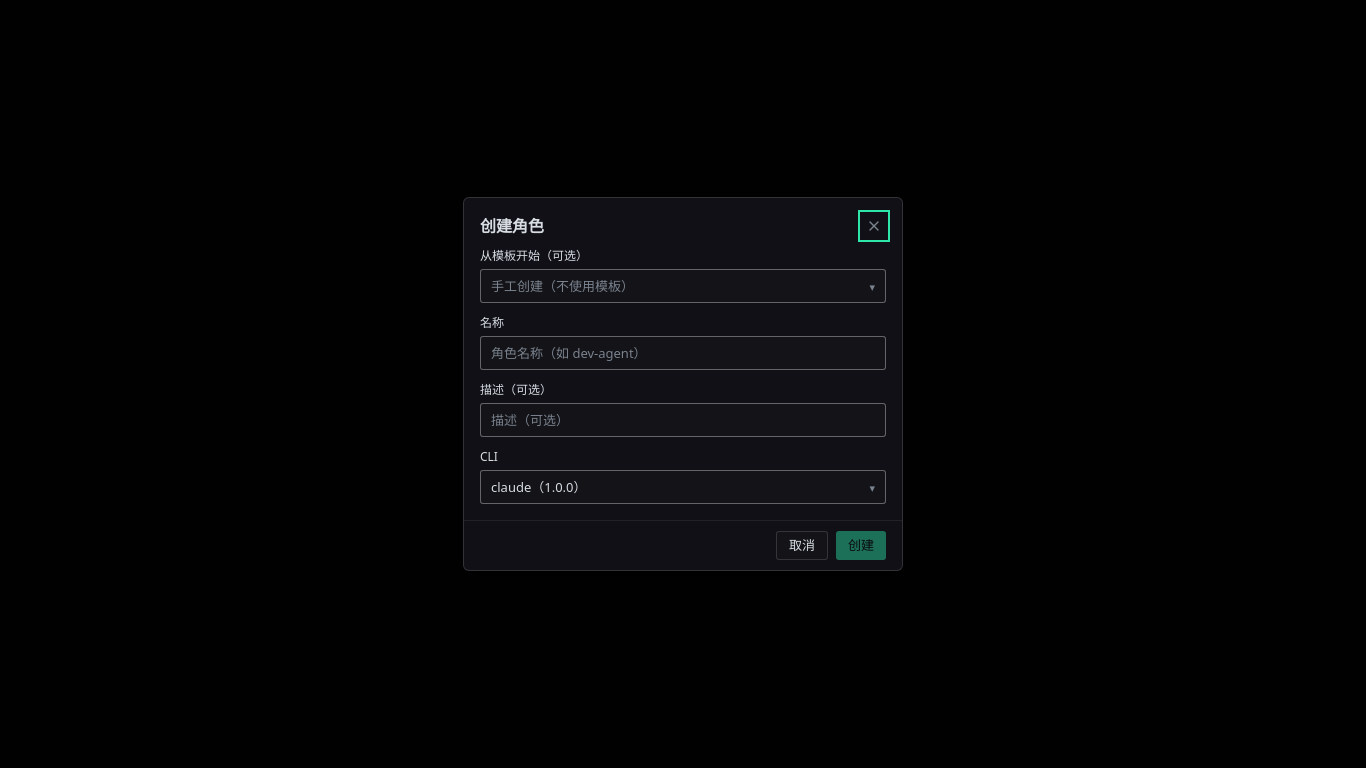
Scenario: RoleFormModal — create 模式（决策 2：收窄单角色） › provider Select：未检测到的内置 CLI 列禁用项；auth=failed 带「未登录」徽标
The width and height of the screenshot is (1366, 768).
Click the button with test id "role-form-provider" at [539, 487], box [480, 470, 886, 504]
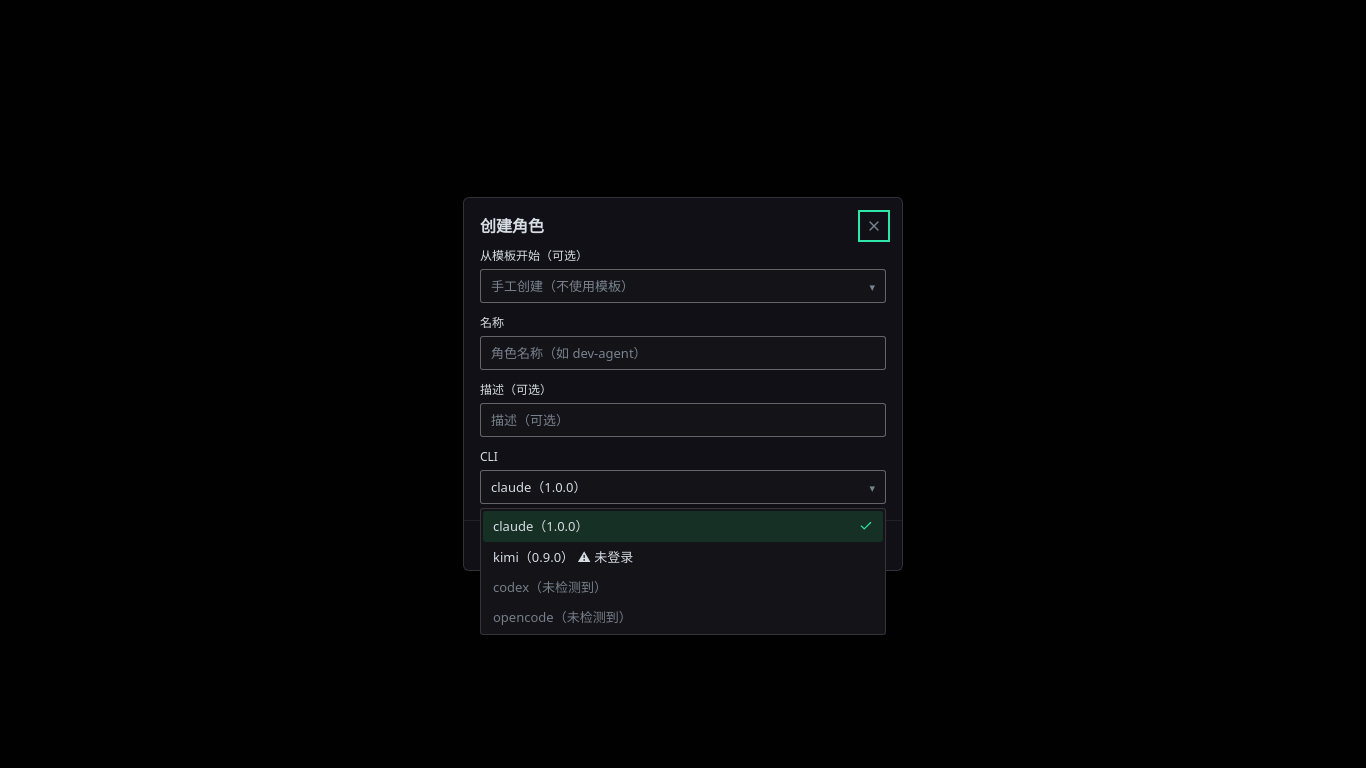
Now the option "claude（1.0.0）" is shown, box [483, 511, 883, 542]
Now the option "kimi（0.9.0） ⚠ 未登录" is shown, box [493, 548, 633, 566]
